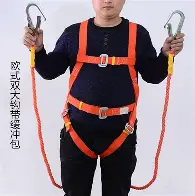safety belt: (60, 19, 144, 160)
